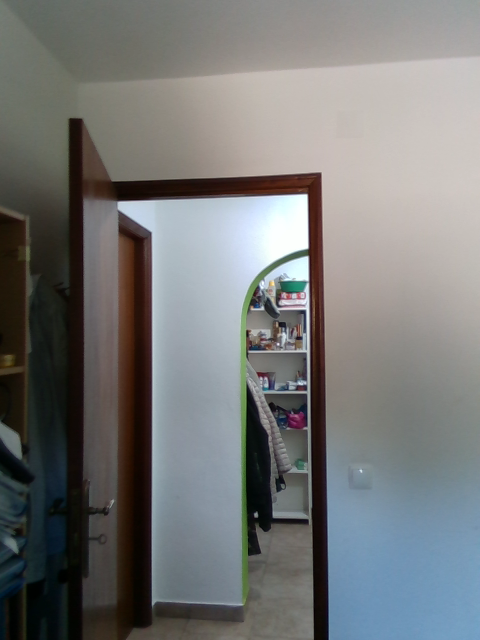open: (76, 128, 329, 639)
